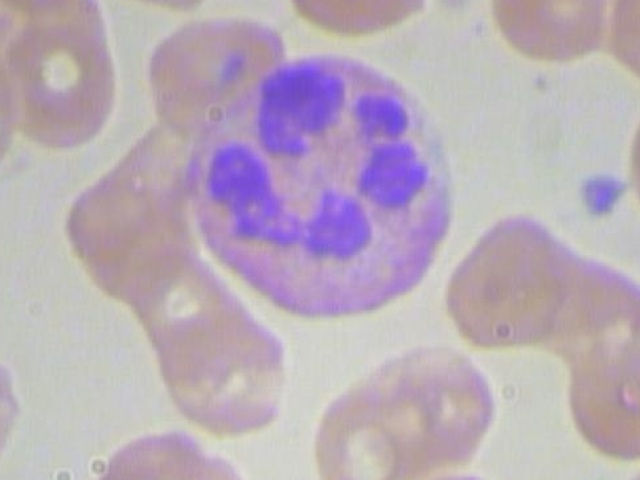Platelets: (574, 166, 637, 228)
RBC: (432, 206, 581, 354), (152, 295, 301, 443), (365, 335, 514, 480), (0, 9, 131, 154), (554, 313, 640, 461), (90, 418, 253, 480), (484, 0, 610, 69), (278, 0, 434, 44), (620, 78, 640, 273), (603, 0, 640, 91), (91, 0, 216, 18), (576, 448, 640, 480)
WBC: (178, 38, 465, 330)
